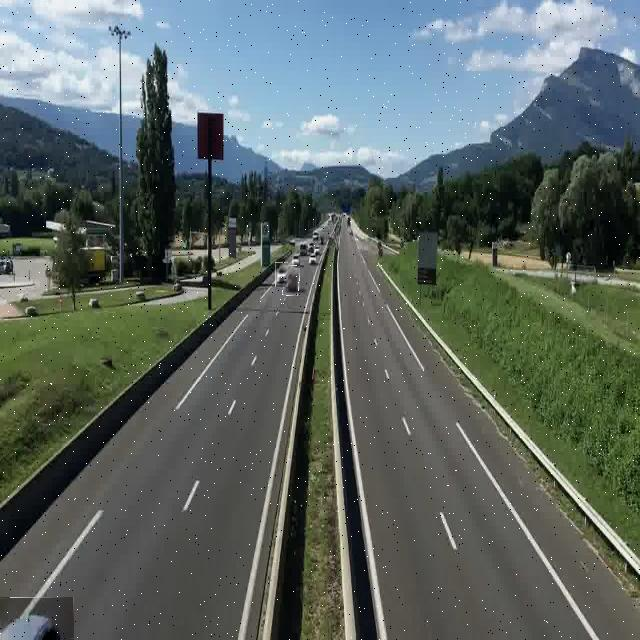Car: (0, 597, 74, 640), (283, 265, 300, 296), (275, 262, 288, 287)
